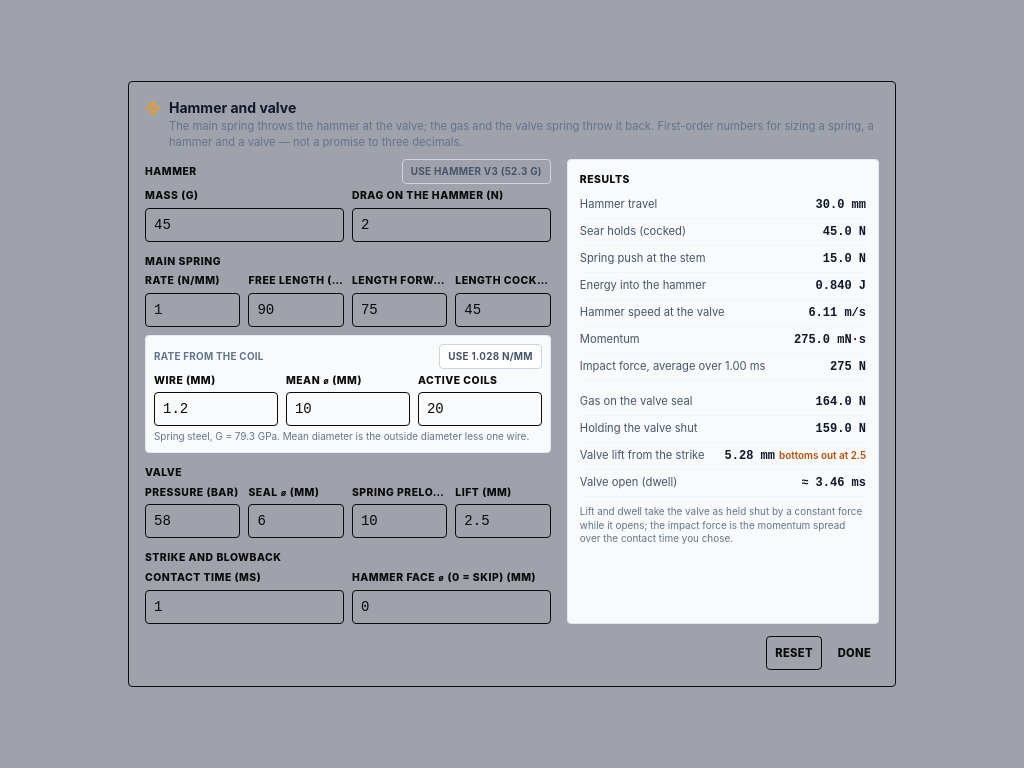
Test: shows the strike numbers and weighs the selected part in as the hammer
Expected: the text "Hammer speed at the valve" is shown, [580,304,725,321]
Expected: the text "6.11 m/s" is shown, [808,304,866,322]
Click the button "Use Hammer v3 (52.3 g)" at [476, 172], box [402,159,551,184]
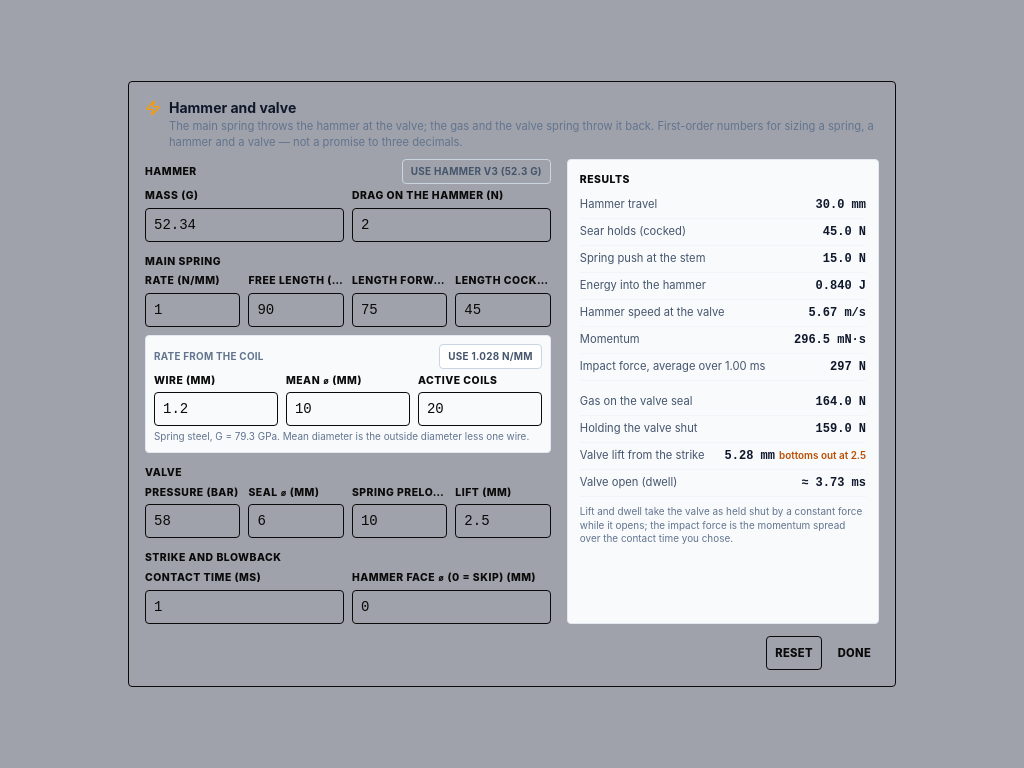
Now the number field labelled "Mass (g)" holds "52.34", box [145,208,344,242]
